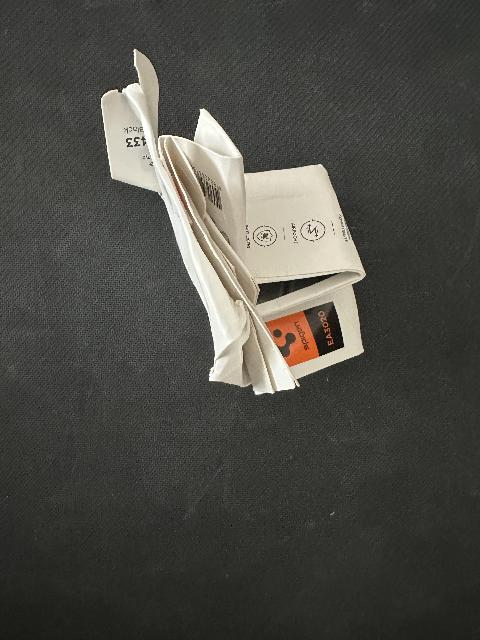Kagit: (96, 48, 366, 401)
